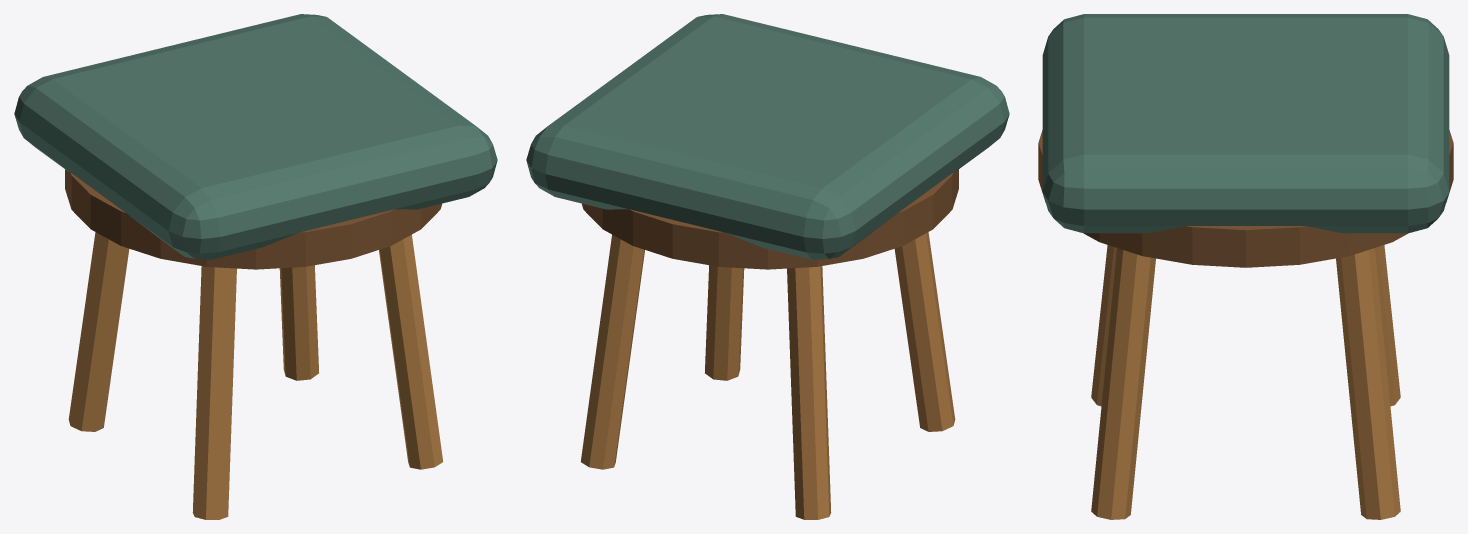
Rendered from stool_cafe.glb.
3 renders of one model, left to right at view 1: azimuth 30°, elevation 25°; view 2: azimuth 150°, elevation 25°; view 3: azimuth 270°, elevation 25°, orthographic. The views are drawn at different scales.
Parts seen in each view (by area): view 1: stool_cafe__green_velvet, stool_cafe__oak, stool_cafe__oak_dark; view 2: stool_cafe__green_velvet, stool_cafe__oak, stool_cafe__oak_dark; view 3: stool_cafe__green_velvet, stool_cafe__oak, stool_cafe__oak_dark.
Boxes of the visible parts, x1,y1,x2,y2 form: stool_cafe__green_velvet: (14,14,497,259); stool_cafe__oak: (68,232,443,519); stool_cafe__oak_dark: (65,169,441,269); stool_cafe__green_velvet: (526,14,1009,259); stool_cafe__oak: (580,232,955,519); stool_cafe__oak_dark: (582,169,958,269); stool_cafe__green_velvet: (1042,14,1449,233); stool_cafe__oak: (1091,245,1400,519); stool_cafe__oak_dark: (1038,130,1453,267).
Size of the model in its own units: 0.5 by 0.4951 by 0.5.
